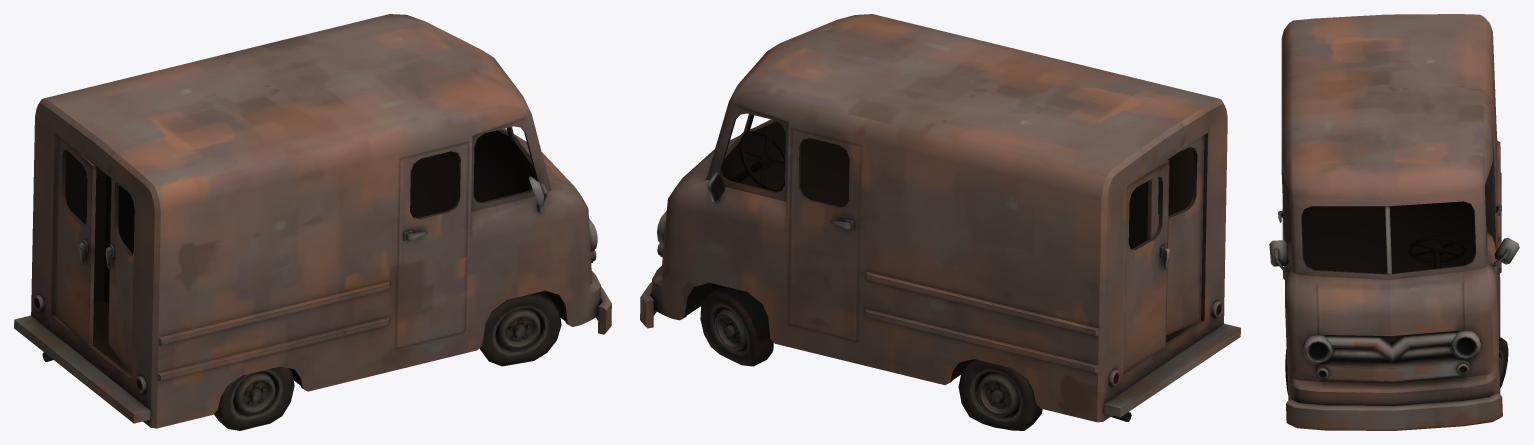
3 renders of one model, left to right at view 1: azimuth 30°, elevation 25°; view 2: azimuth 150°, elevation 25°; view 3: azimuth 270°, elevation 25°, orthographic. The views are drawn at different scales.
Visible parts, largest first — view 1: body0_model0_lod0_mesh0; view 2: body0_model0_lod0_mesh0; view 3: body0_model0_lod0_mesh0.
Part boxes in pixels (x1,y1,x2,y2): body0_model0_lod0_mesh0: (14,14,611,430); body0_model0_lod0_mesh0: (640,14,1240,430); body0_model0_lod0_mesh0: (1269,14,1519,430).
Size of the model in its own units: 214 by 115 by 110.
1 material, 1 textured.
